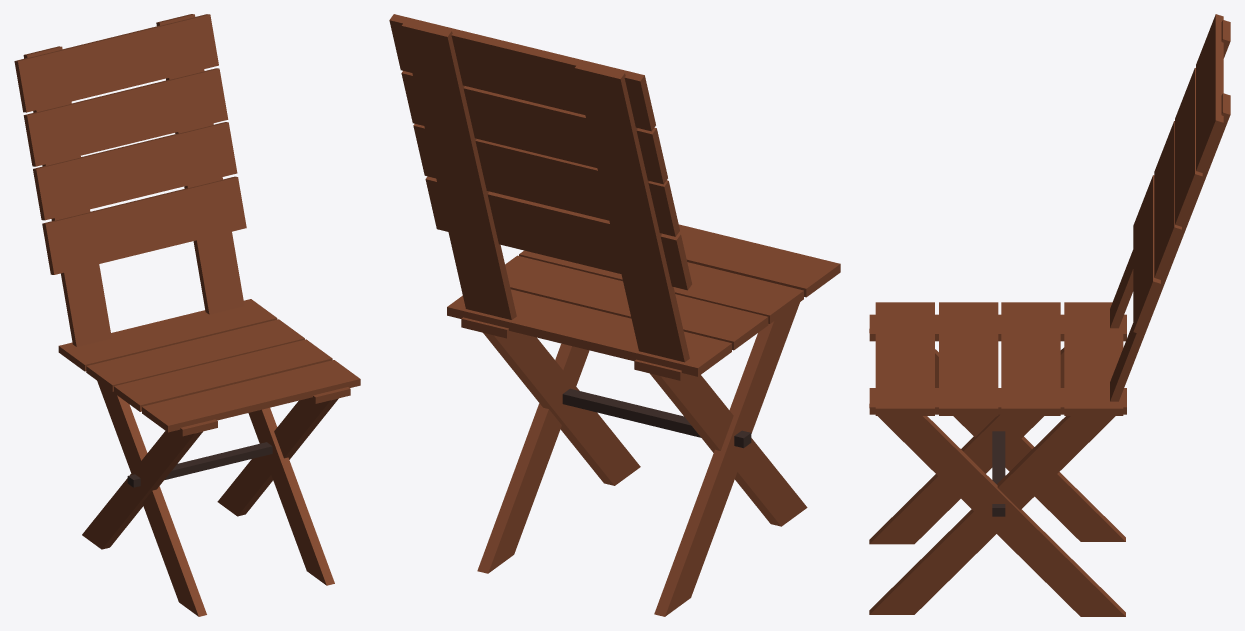
Rendered from village_pack_chair.glb.
3 renders of one model, left to right at view 1: azimuth 30°, elevation 25°; view 2: azimuth 150°, elevation 25°; view 3: azimuth 270°, elevation 25°, orthographic. The views are drawn at different scales.
Visible parts, largest first — view 1: chair_wood 1_0; view 2: chair_wood 1_0; view 3: chair_wood 1_0.
Part boxes in pixels (x1,y1,x2,y2): chair_wood 1_0: (14, 14, 360, 616); chair_wood 1_0: (389, 14, 840, 616); chair_wood 1_0: (869, 14, 1230, 616).
Size of the model in its own units: 0.4068 by 0.9117 by 0.5836.
